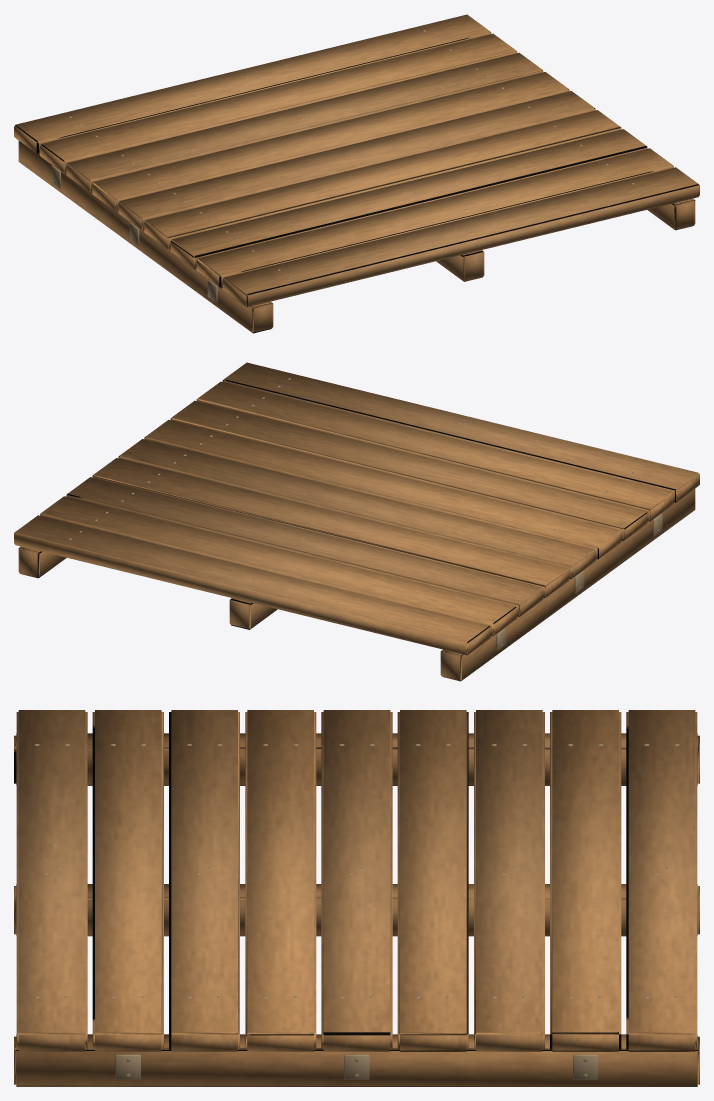
The model's file is dock-deck.glb.
3 renders of one model, top to bottom at view 1: azimuth 30°, elevation 25°; view 2: azimuth 150°, elevation 25°; view 3: azimuth 270°, elevation 25°, orthographic. The views are drawn at different scales.
Visible parts, largest first — view 1: dock-deck; view 2: dock-deck; view 3: dock-deck.
Boxes of the visible parts, x1,y1,x2,y2 form: dock-deck: [14, 14, 699, 333]; dock-deck: [14, 362, 699, 681]; dock-deck: [14, 710, 699, 1086].
Size of the model in its own units: 3.8 by 0.324 by 3.4.
2 materials, 1 textured.
